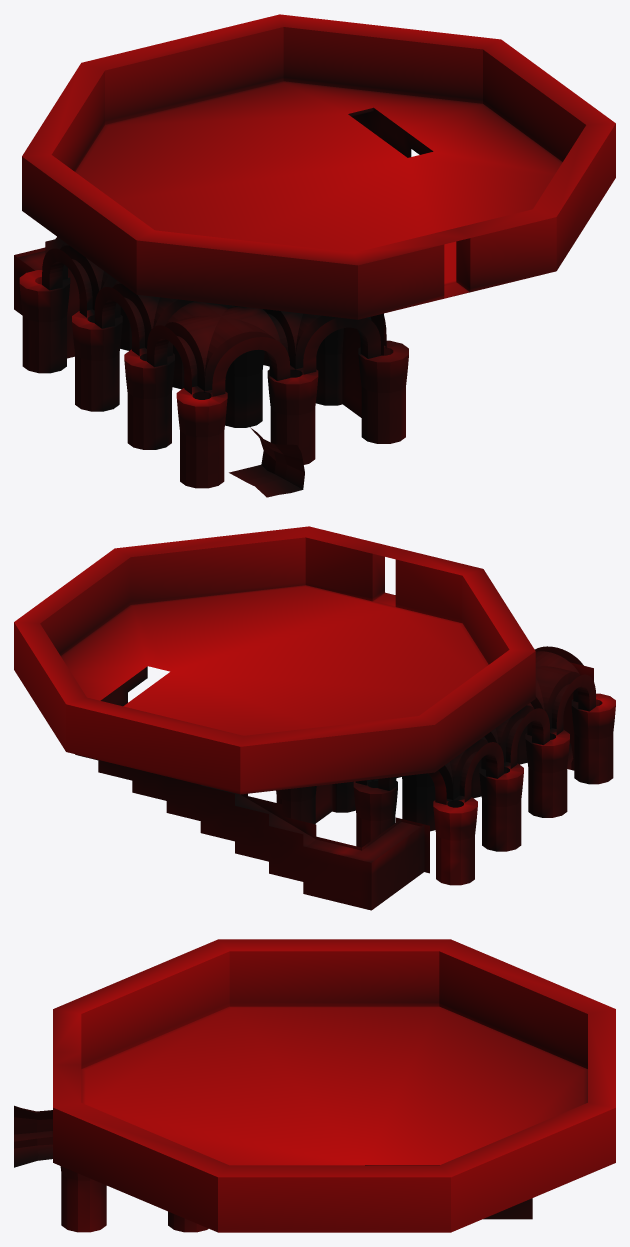
The model's file is mountain_base_update_1.obj.
The picture shows the model from 3 angles, top to bottom: view 1: azimuth 30°, elevation 25°; view 2: azimuth 150°, elevation 25°; view 3: azimuth 270°, elevation 25°; orthographic projection. The views are drawn at different scales.
Visible parts, largest first — view 1: Surface, BasementPillars, BasementCeilng, BasementWall, Hole, StairWall; view 2: Surface, BasementPillars, StairWall, BasementCeilng, StairCeiling, BasementWall; view 3: Surface, BasementPillars, Hole, StairWall.
Part boxes in pixels (box(x1,y1,x2,y2)): Surface: box(22, 14, 615, 319); BasementPillars: box(19, 270, 408, 488); BasementCeilng: box(42, 236, 386, 396); BasementWall: box(45, 238, 383, 417); Hole: box(229, 427, 304, 497); StairWall: box(14, 108, 433, 315); Surface: box(14, 526, 535, 794); BasementPillars: box(276, 693, 615, 885); StairWall: box(75, 666, 424, 910); BasementCeilng: box(355, 646, 595, 804); StairCeiling: box(201, 785, 420, 862); BasementWall: box(315, 662, 593, 873); Surface: box(53, 939, 615, 1232); BasementPillars: box(60, 1166, 208, 1232); Hole: box(14, 1105, 52, 1167); StairWall: box(365, 1165, 532, 1219).
Size of the model in its own units: 38.67 by 14.18 by 39.53.
